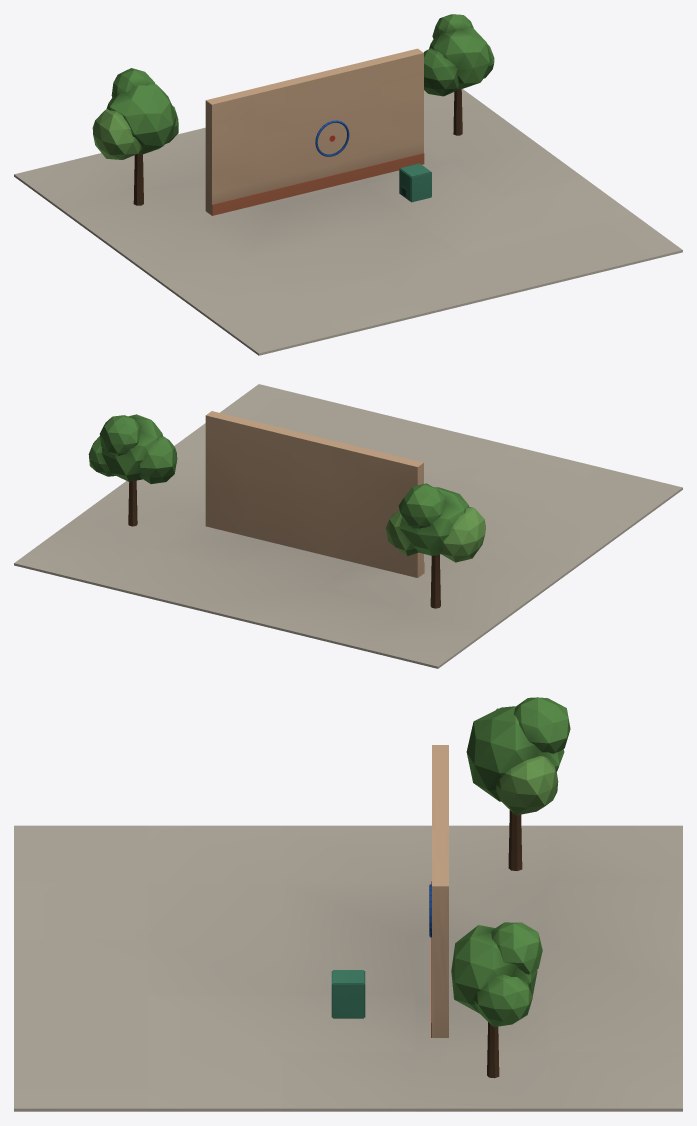
The model's file is courtyard.glb.
3 views of the same model, one above another, from view 1: azimuth 30°, elevation 25°; view 2: azimuth 150°, elevation 25°; view 3: azimuth 270°, elevation 25° (orthographic). The views are drawn at different scales.
Parts seen in each view (by area): view 1: courtyard; view 2: courtyard; view 3: courtyard.
Boxes of the visible parts, x1,y1,x2,y2 form: courtyard: [14, 14, 682, 355]; courtyard: [14, 384, 682, 668]; courtyard: [14, 697, 682, 1111].
Bounding box in the file's own units: 12 × 3.49 × 12.
